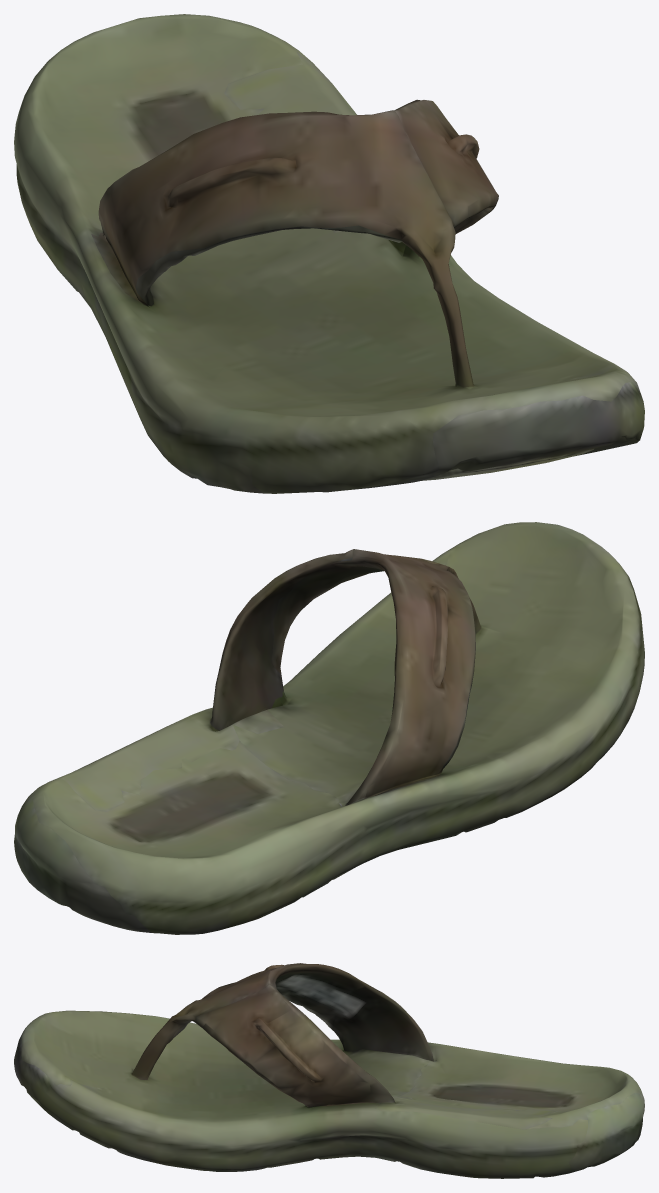
Rendered from Mens_Santa_Cruz_Thong_in_Chocolate_lvxYW7lek6B-high.glb.
The picture shows the model from 3 angles, top to bottom: view 1: azimuth 30°, elevation 25°; view 2: azimuth 150°, elevation 25°; view 3: azimuth 270°, elevation 25°; orthographic projection. The views are drawn at different scales.
Visible parts, largest first — view 1: Mens_Santa_Cruz_Thong_in_Chocolate_lvxYW7lek6B; view 2: Mens_Santa_Cruz_Thong_in_Chocolate_lvxYW7lek6B; view 3: Mens_Santa_Cruz_Thong_in_Chocolate_lvxYW7lek6B.
Part boxes in pixels (x1,y1,x2,y2): Mens_Santa_Cruz_Thong_in_Chocolate_lvxYW7lek6B: (14, 14, 644, 493); Mens_Santa_Cruz_Thong_in_Chocolate_lvxYW7lek6B: (14, 522, 644, 934); Mens_Santa_Cruz_Thong_in_Chocolate_lvxYW7lek6B: (14, 963, 644, 1178).
Bounding box in the file's own units: 0.134 × 0.0837 × 0.2919.
1 material, 1 textured.
